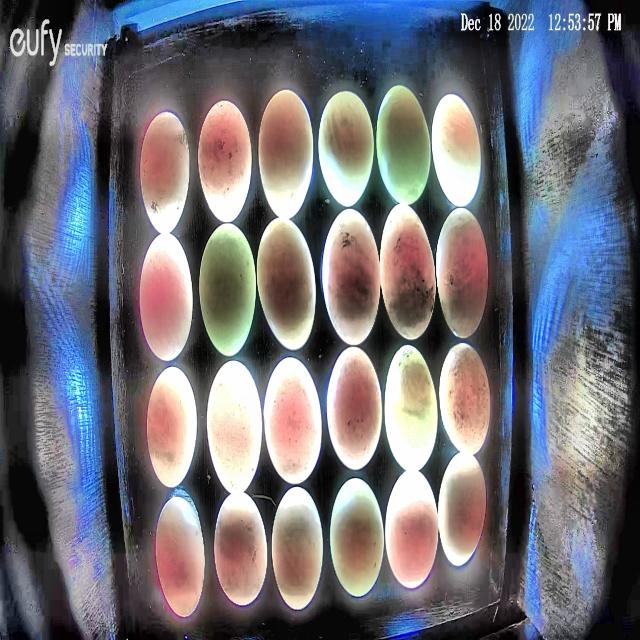UF: (322, 205, 381, 345), (256, 218, 318, 351), (205, 359, 264, 495), (199, 223, 257, 359), (379, 203, 436, 341), (264, 355, 322, 486), (258, 89, 315, 219), (138, 231, 194, 362), (383, 343, 439, 472), (326, 345, 383, 471), (197, 98, 253, 224), (436, 207, 489, 339), (329, 475, 385, 599), (376, 84, 432, 207), (271, 485, 324, 612), (384, 470, 440, 590), (318, 90, 374, 208), (146, 365, 198, 489), (154, 497, 207, 618), (140, 110, 191, 235), (213, 491, 268, 605), (439, 342, 491, 456), (432, 93, 482, 208), (438, 451, 487, 568)
